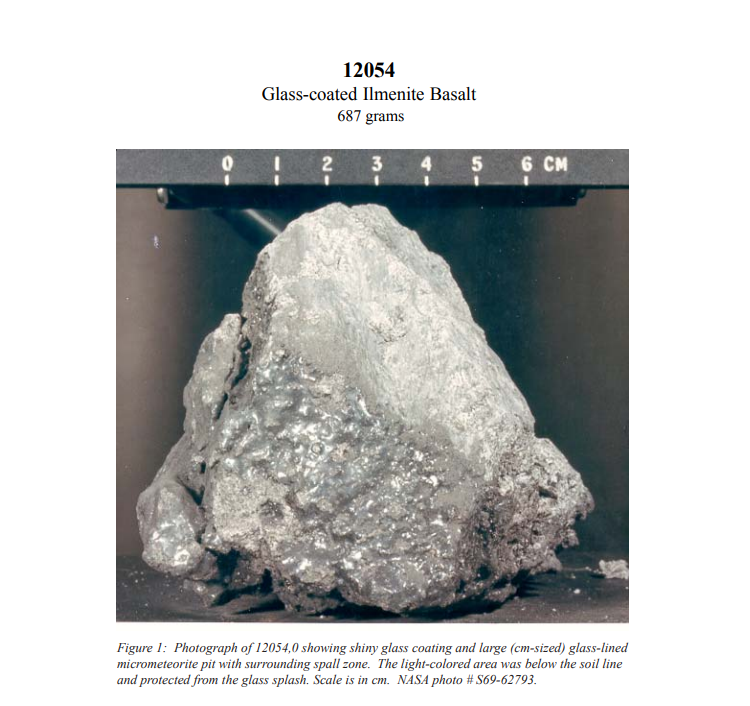Basalt: (114, 195, 601, 615)
